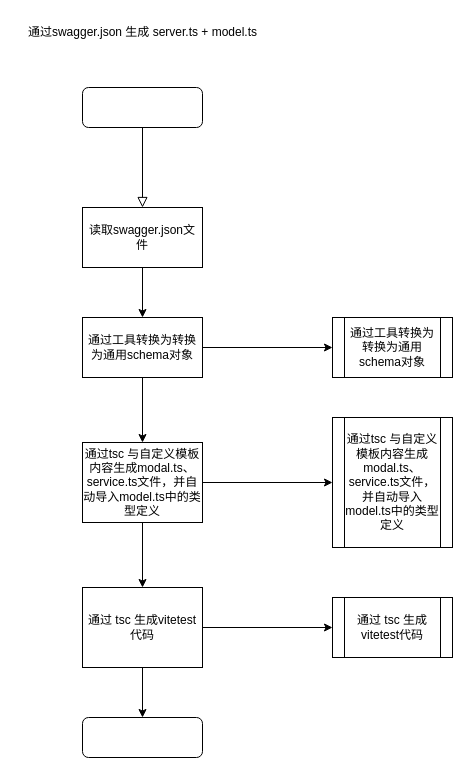
Image size: 470x775. Some labels were removed from this diagram. Each missing label, with the centre of its shape:
"开始" goes at point (142, 107).
"结束" goes at point (142, 737).
